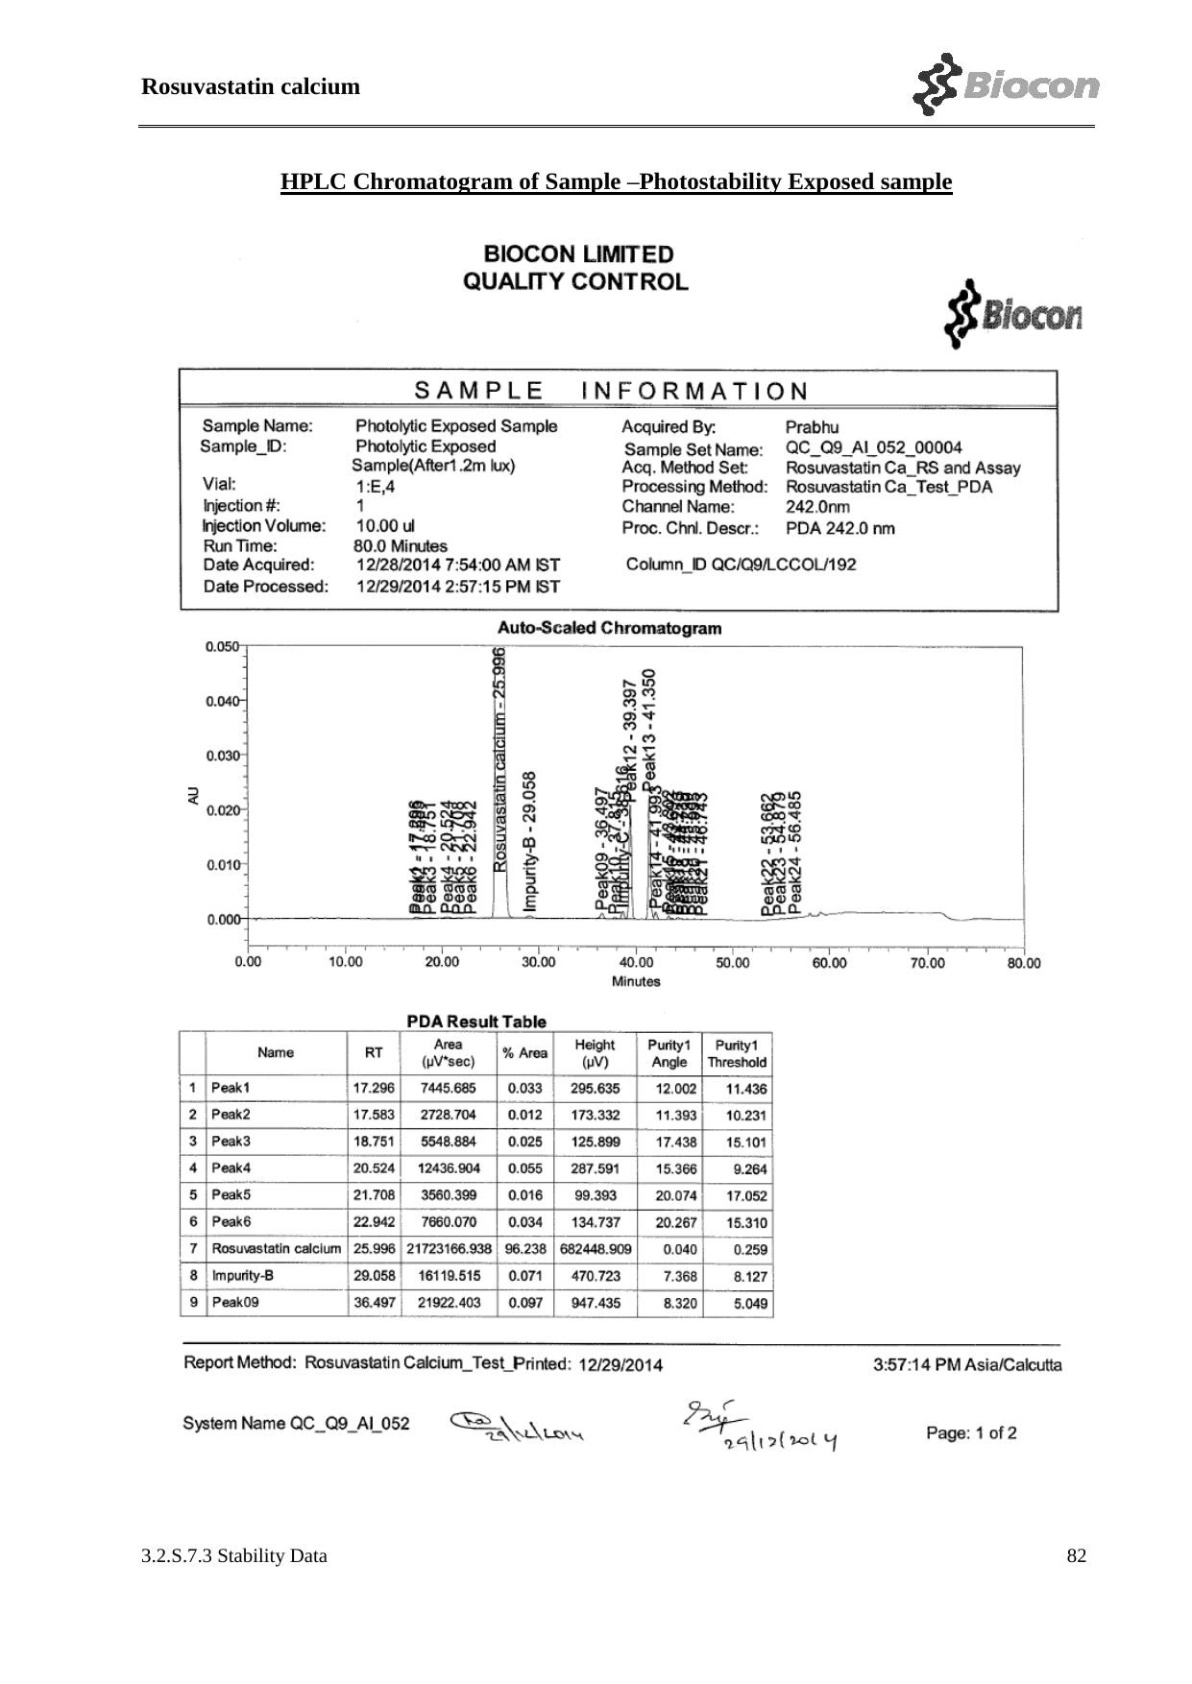full_lined: (178, 1029, 775, 1319)
partial_lined_merged_cells: (178, 367, 1060, 612)
